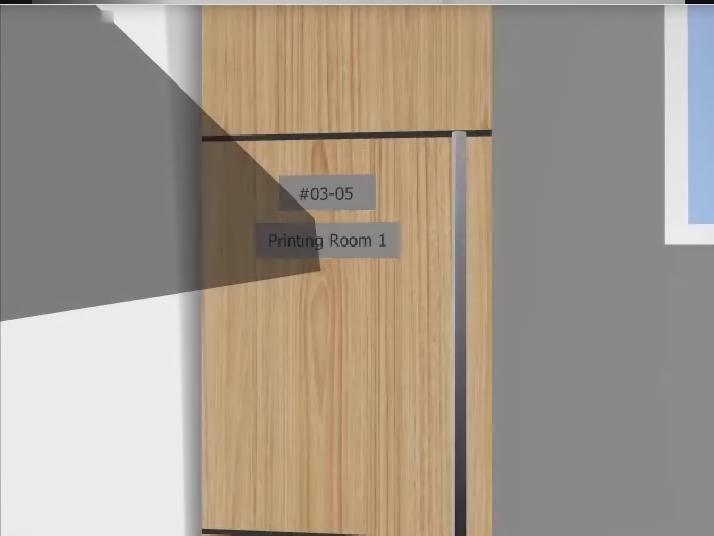door: (202, 7, 492, 536)
